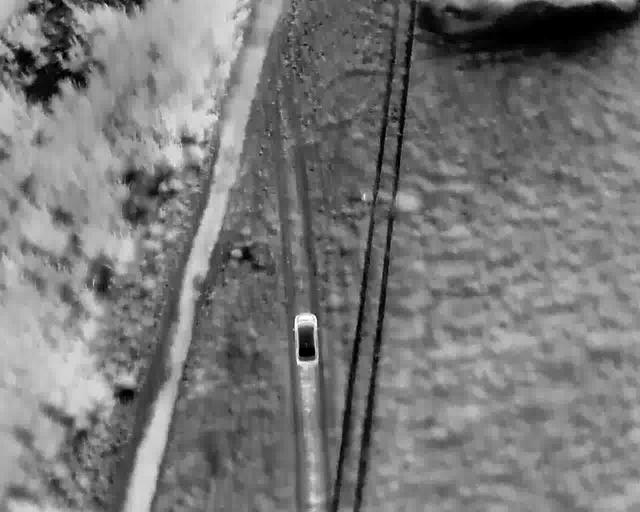car: (292, 312, 319, 365)
